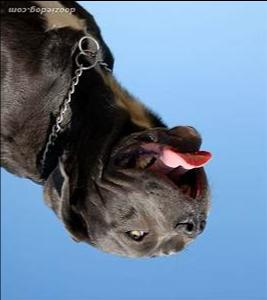dog: (1, 1, 213, 260)
